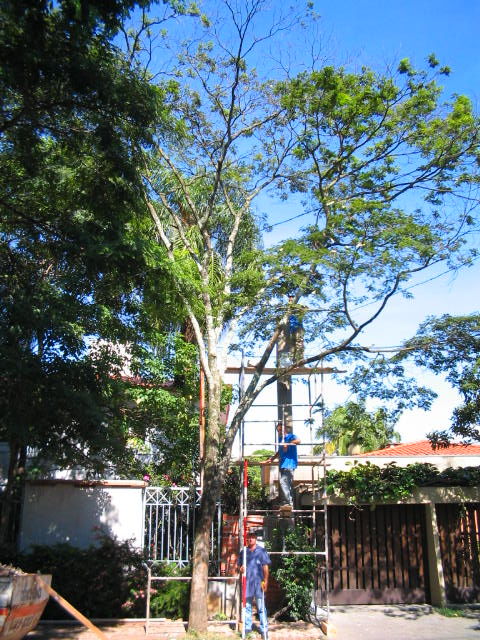crown: (141, 53, 477, 381)
stem: (174, 473, 227, 635)
stick: (233, 458, 257, 636)
tree: (137, 51, 479, 636)
